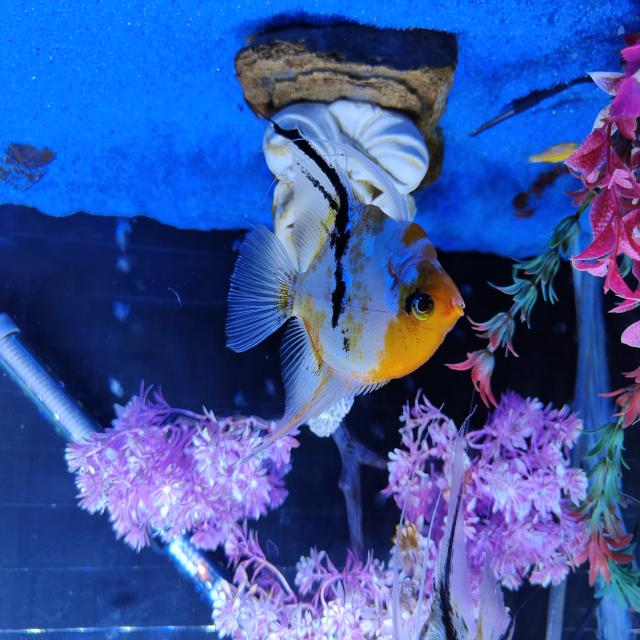Fish: (226, 123, 464, 453), (415, 434, 514, 639), (529, 142, 579, 162)
